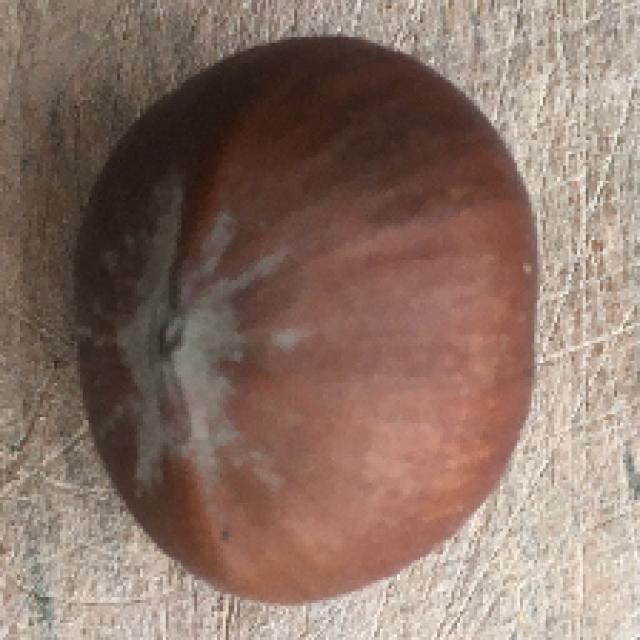qualityHazelnut: (68, 27, 537, 608)
